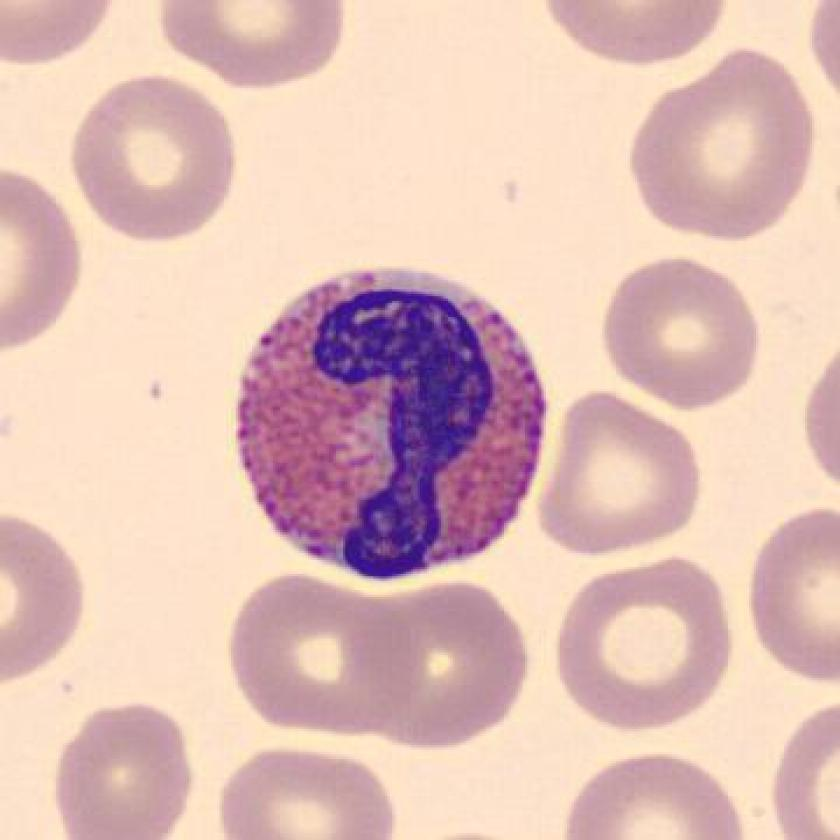eosinophil: (223, 258, 563, 589)
